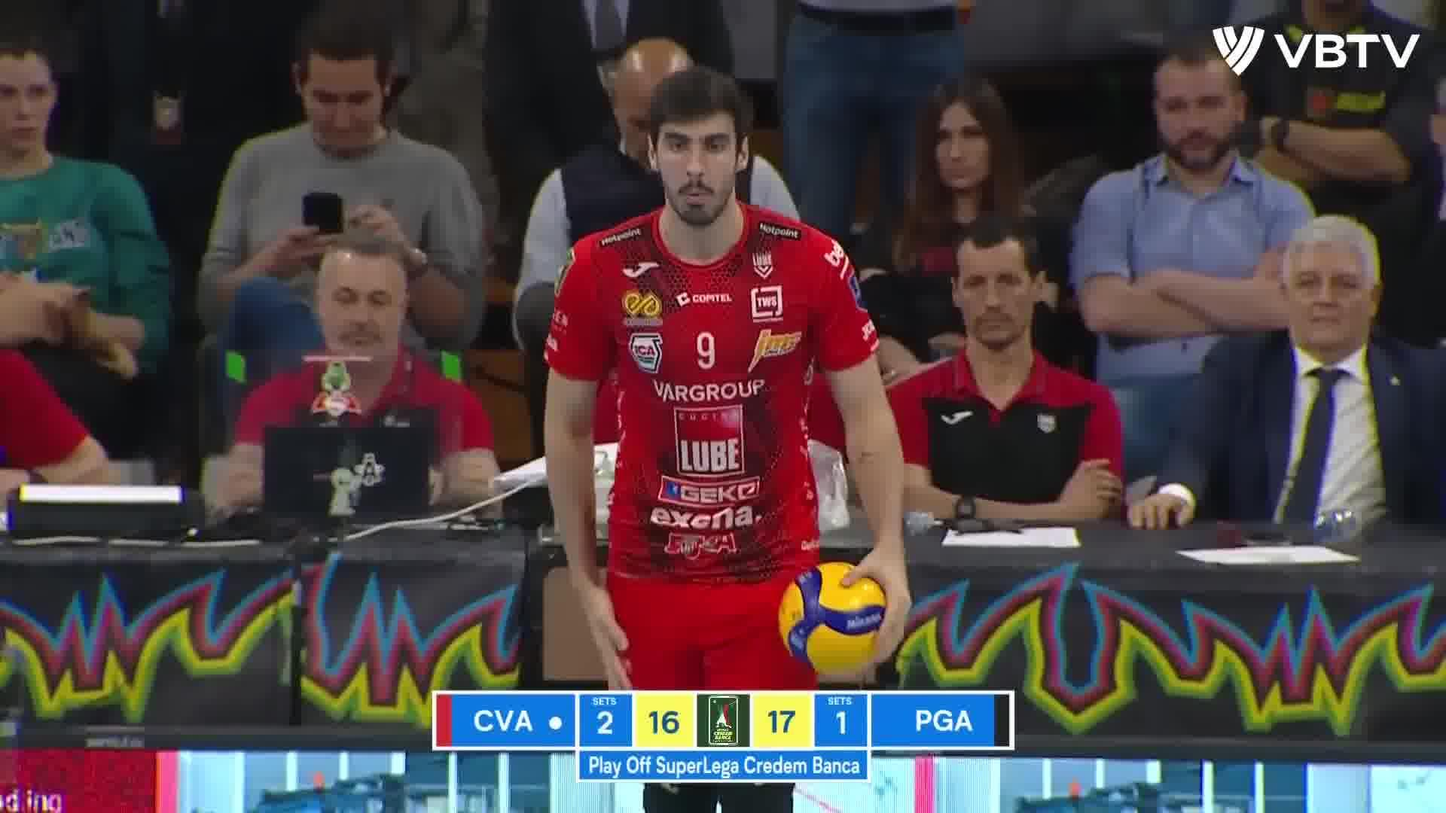balls: (776, 560, 891, 684)
